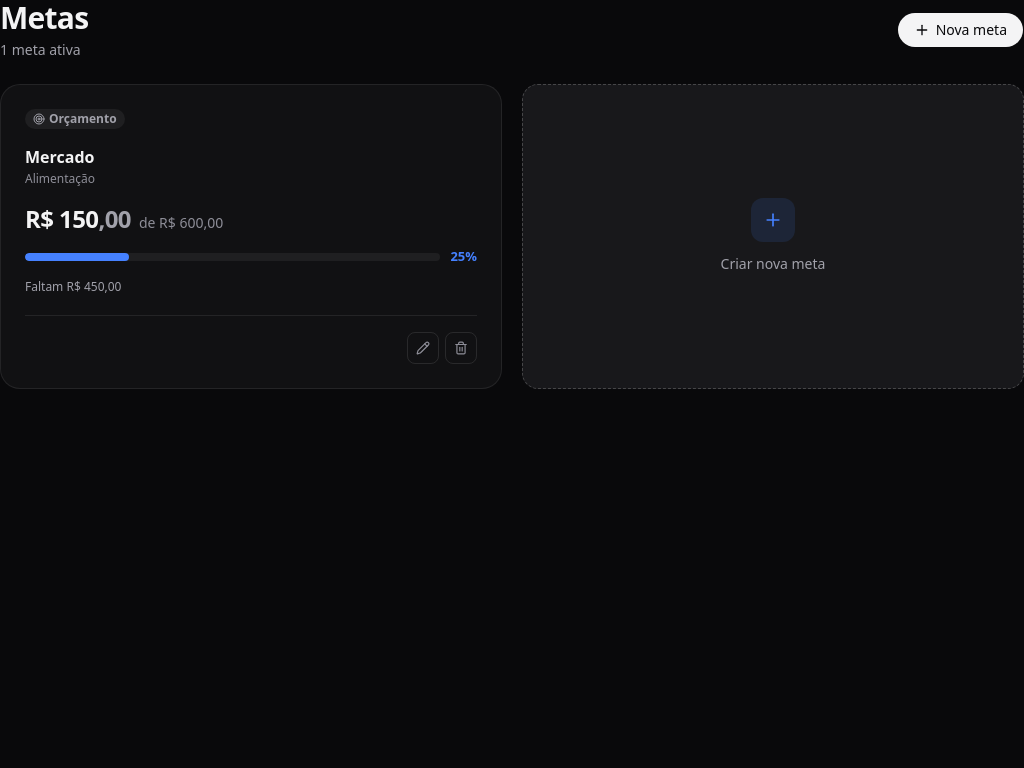
Test: Goals › mostra o rótulo 'Teto mensal' ao editar uma meta do tipo BUDGET
The width and height of the screenshot is (1024, 768).
Click the button named "editar meta".
click(423, 348)  # box [407,332,439,364]
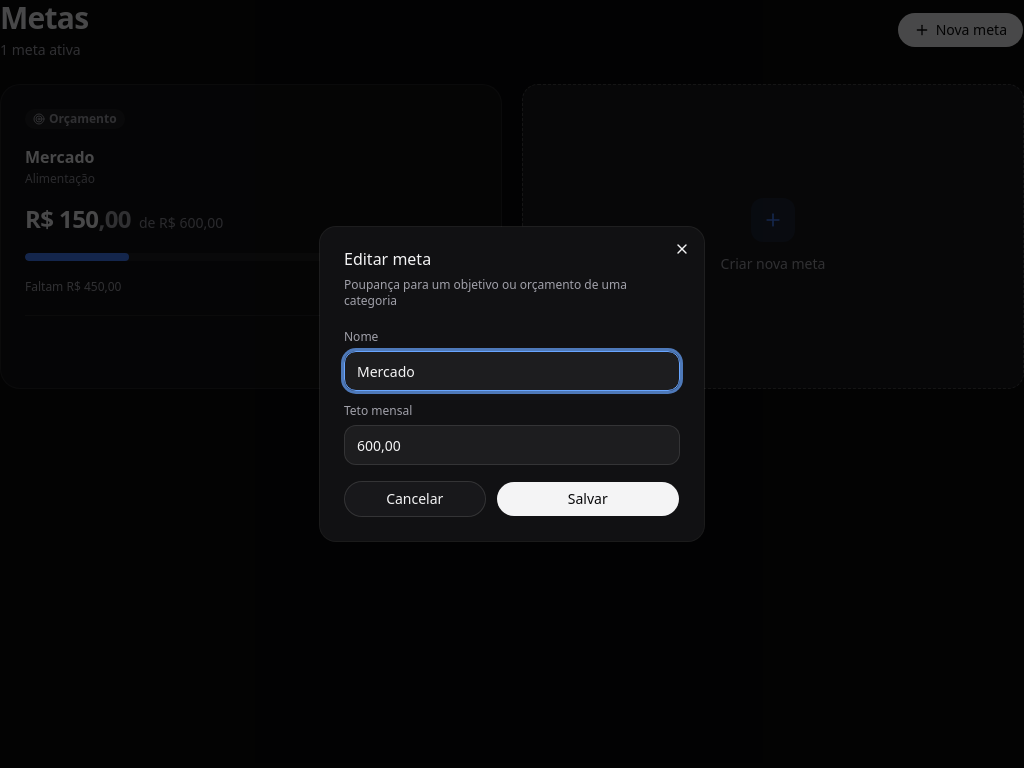
Expected: the dialog is shown, [320,227,704,541]
Expected: the field labelled "Teto mensal" is shown, [344,425,680,465]
